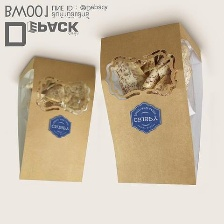snack: (95, 17, 209, 191), (10, 51, 100, 189)
